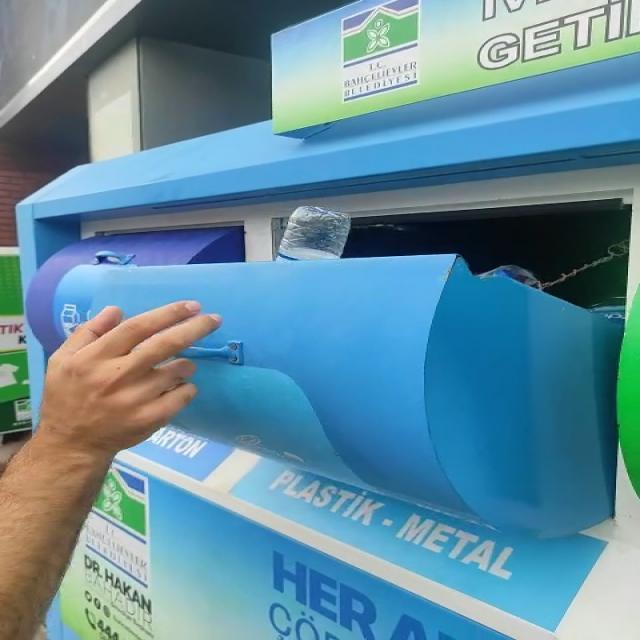Plastic: (276, 206, 351, 260)
